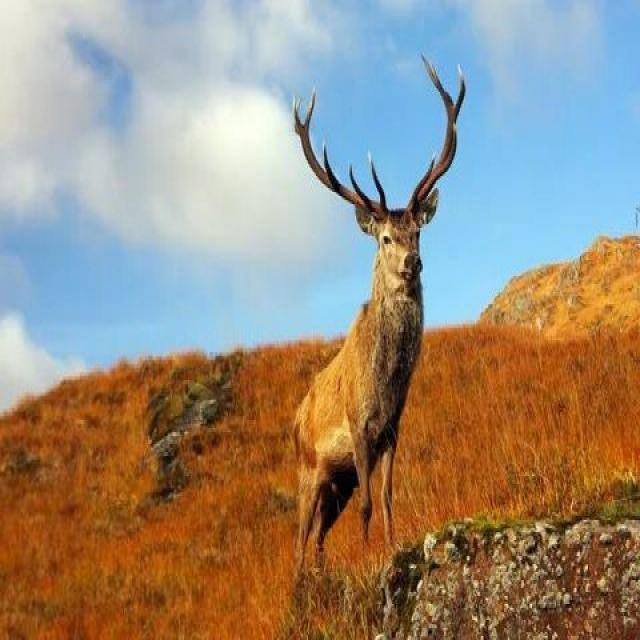deer: (294, 109, 518, 543)
